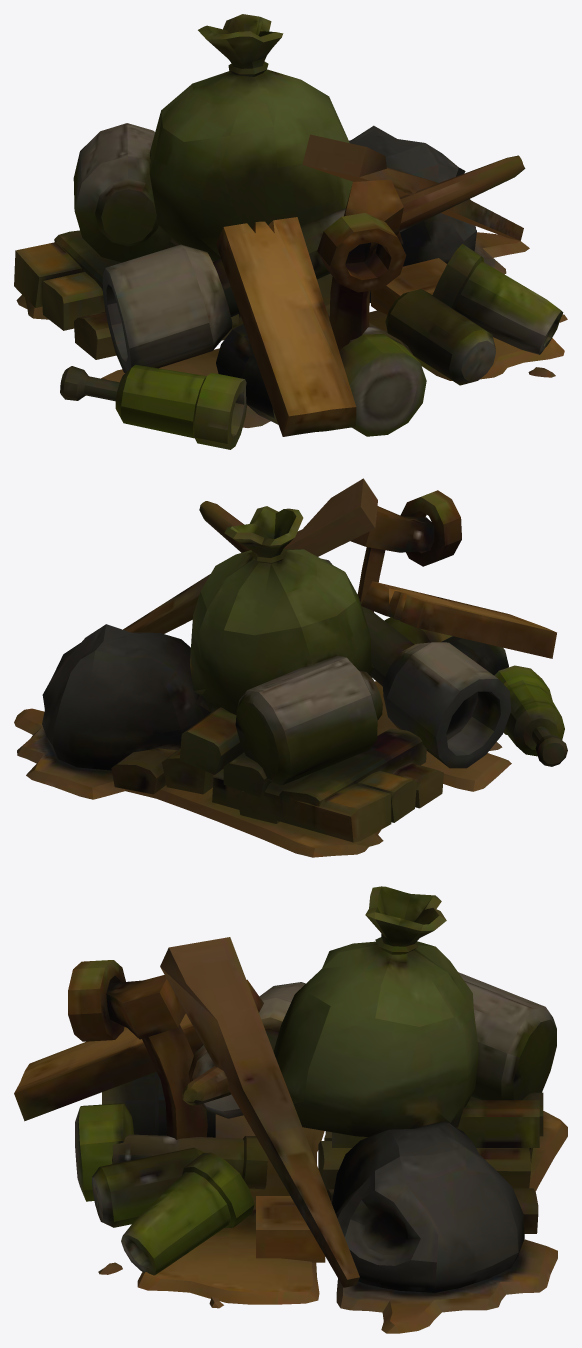
File: sewer_trash_pile.fbx
3 renders of one model, top to bottom at view 1: azimuth 30°, elevation 25°; view 2: azimuth 150°, elevation 25°; view 3: azimuth 270°, elevation 25°, orthographic. The views are drawn at different scales.
Parts seen in each view (by area): view 1: sewer_trash_pile; view 2: sewer_trash_pile; view 3: sewer_trash_pile.
Part boxes in pixels (bbox=[...]): sewer_trash_pile: bbox=[14, 14, 567, 449]; sewer_trash_pile: bbox=[14, 478, 567, 857]; sewer_trash_pile: bbox=[14, 886, 567, 1333].
Bounding box in the file's own units: 141 × 75.57 × 123.
Materials: 1 (1 with a texture image).
